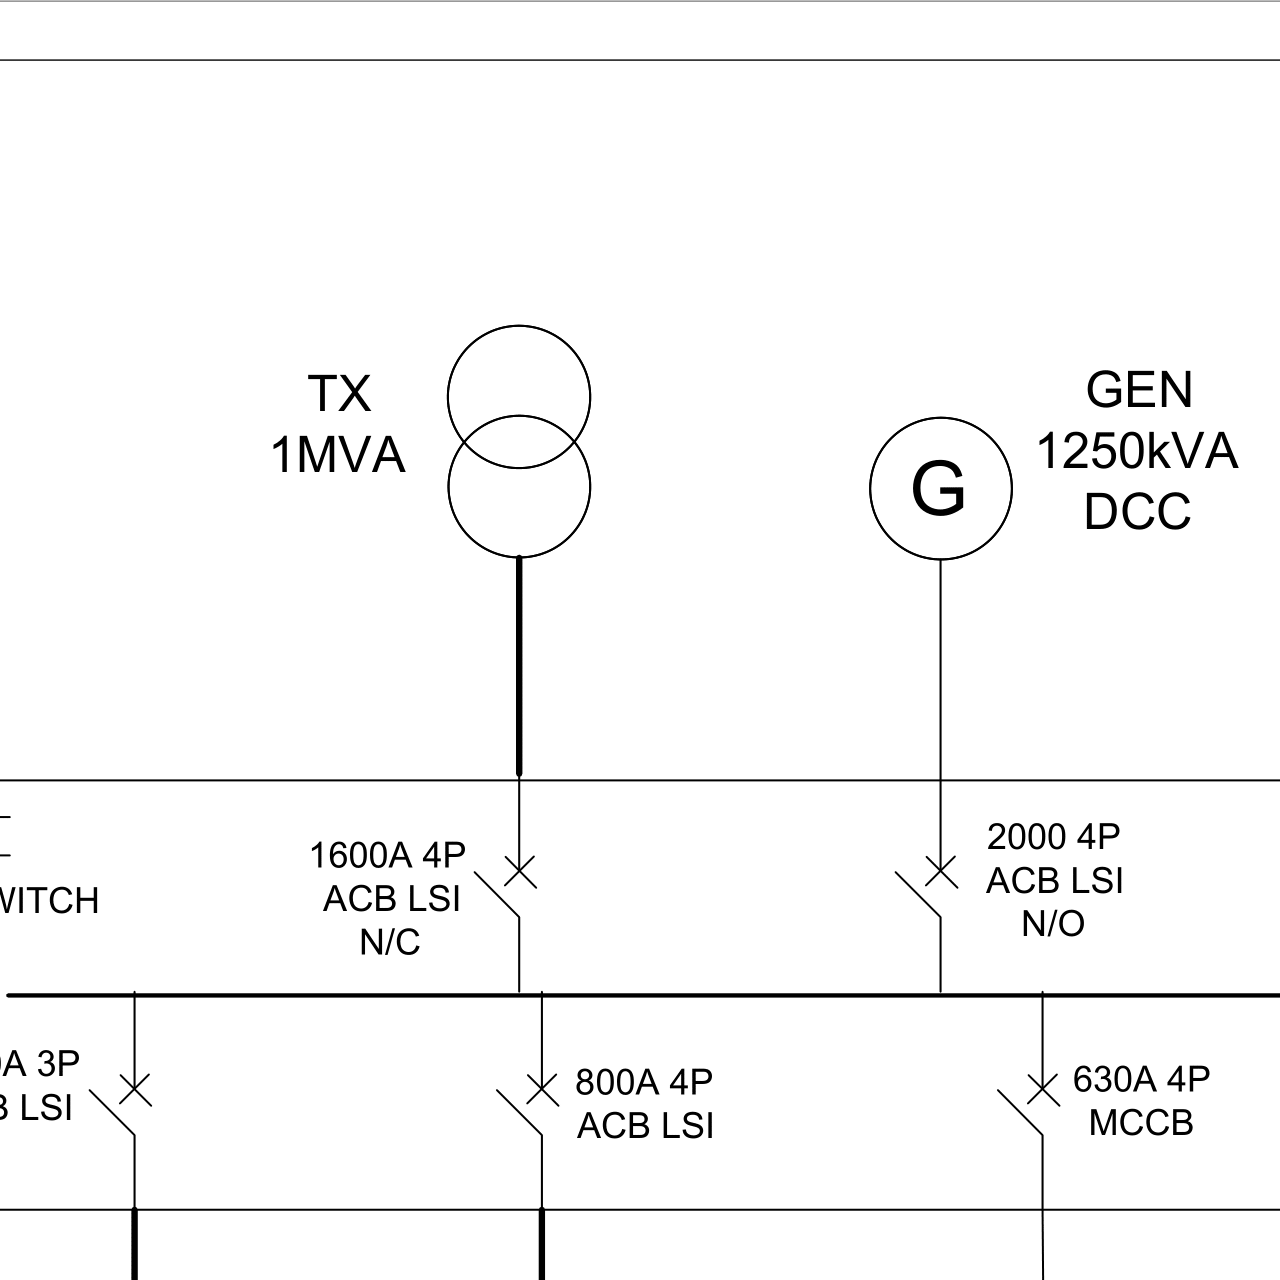Generator: (855, 408, 1027, 581)
Transformer: (421, 309, 619, 573)
